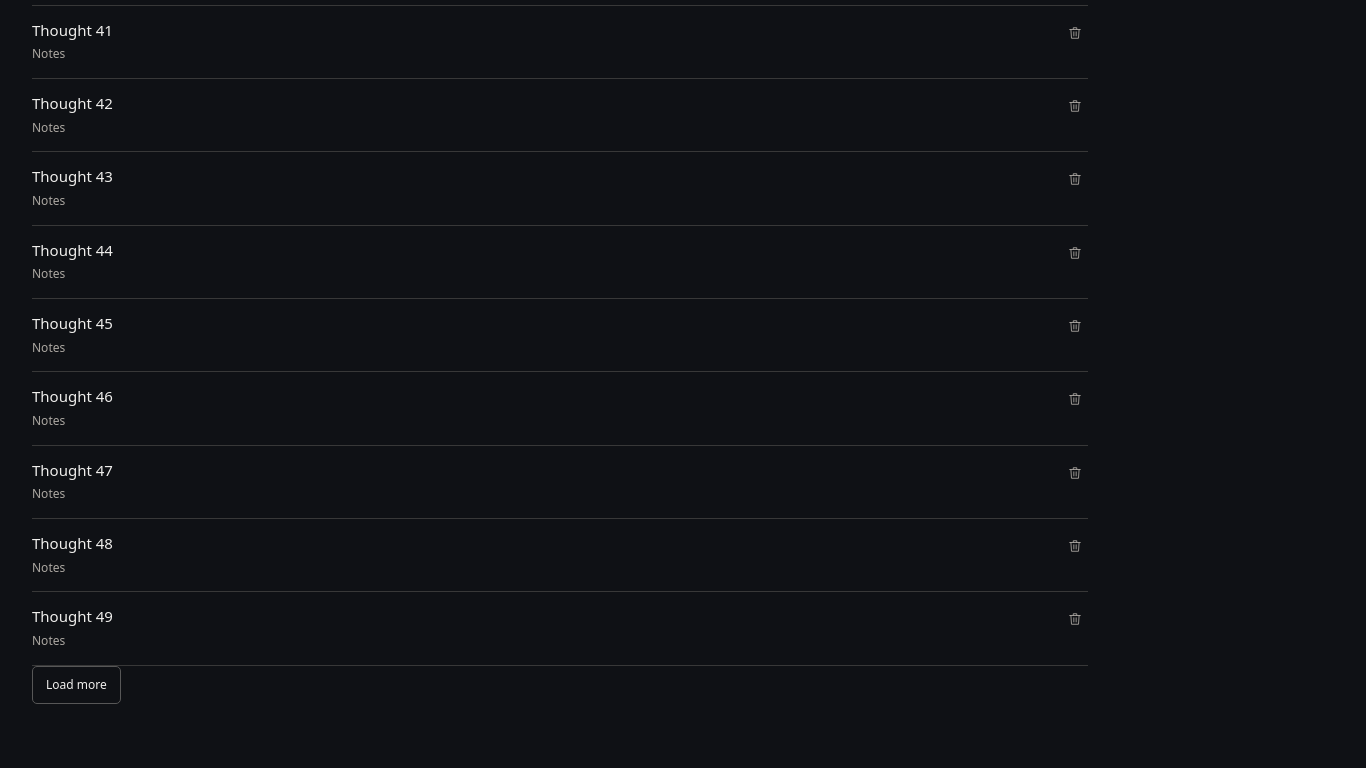
Scenario: Collection pages › loads another 50-record page without dropping the first page or duplicating rows
(page scrolled)
Click the button "Load more".
click(76, 685)  # box 32,666 -> 121,704
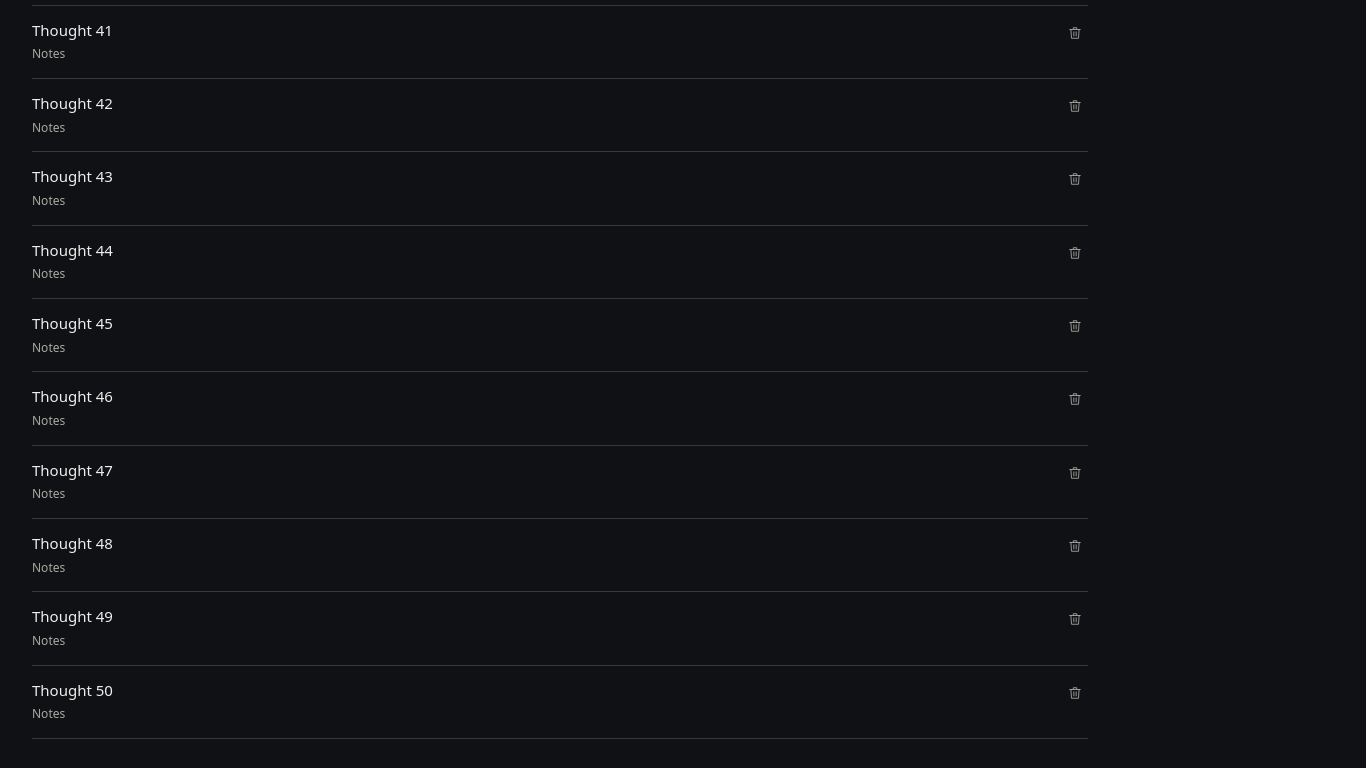
Expected: the text "Thought 50" is shown, 32,680 -> 113,700
Expected: the button "Load more" is gone
